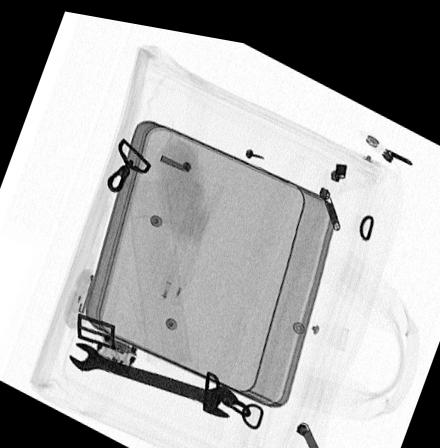Wrench: (67, 339, 239, 409)
